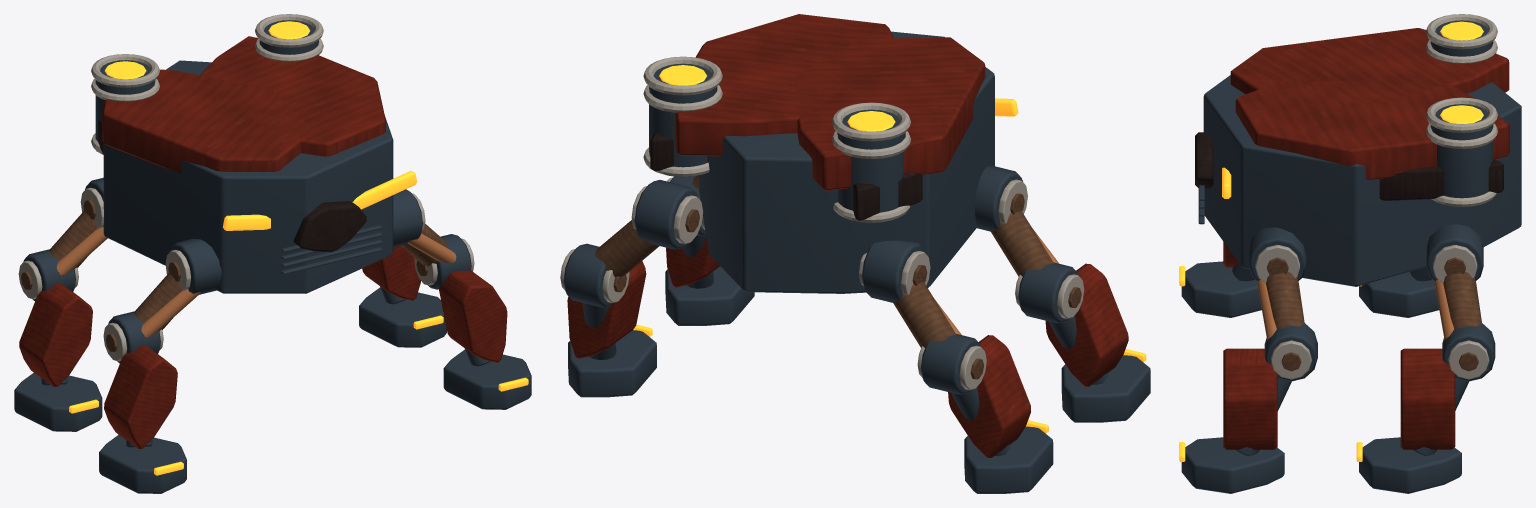
Rendered from slag_crawler.glb.
3 views of the same model, side by side, from view 1: azimuth 30°, elevation 25°; view 2: azimuth 150°, elevation 25°; view 3: azimuth 270°, elevation 25° (orthographic). The views are drawn at different scales.
Parts seen in each view (by area): view 1: Sloped crawler body, Layered beetle carapace, Servo housing.003, Servo housing.008, Swept crawler greave.001, Swept crawler greave, Servo housing, Swept crawler greave.003, Servo housing.006, Reinforced exhaust collar, Crawler eye, Swept cobalt shell (+10 smaller); view 2: Sloped crawler body, Layered beetle carapace, Servo housing, Servo housing.006, Servo housing.003, Reinforced exhaust collar, Swept crawler greave, Swept crawler greave.001, Servo housing.008, Swept crawler greave.002, Hub, Hub.005 (+7 smaller); view 3: Sloped crawler body, Layered beetle carapace, Servo housing.006, Servo housing.008, Swept crawler greave.002, Swept crawler greave.003, Reinforced exhaust collar, Servo housing.003, Swept cobalt shell, Servo housing, Hub.010, Hub.014 (+5 smaller).
Boxes of the visible parts, left/top/right/bottom form: Sloped crawler body: left=95, top=20, right=393, bottom=293; Layered beetle carapace: left=102, top=36, right=385, bottom=173; Servo housing.003: left=99, top=238, right=221, bottom=493; Servo housing.008: left=393, top=189, right=531, bottom=409; Swept crawler greave.001: left=104, top=345, right=177, bottom=448; Swept crawler greave: left=19, top=283, right=92, bottom=386; Servo housing: left=14, top=177, right=103, bottom=431; Swept crawler greave.003: left=439, top=270, right=507, bottom=362; Servo housing.006: left=359, top=286, right=446, bottom=347; Reinforced exhaust collar: left=91, top=14, right=323, bottom=154; Crawler eye: left=104, top=21, right=416, bottom=230; Swept cobalt shell: left=98, top=120, right=366, bottom=252; Sloped crawler body: left=649, top=31, right=994, bottom=293; Layered beetle carapace: left=675, top=14, right=985, bottom=190; Servo housing: left=862, top=240, right=1053, bottom=493; Servo housing.006: left=563, top=180, right=698, bottom=397; Servo housing.003: left=975, top=165, right=1150, bottom=422; Reinforced exhaust collar: left=643, top=56, right=910, bottom=222; Swept crawler greave: left=948, top=335, right=1030, bottom=457; Swept crawler greave.001: left=1045, top=263, right=1128, bottom=386; Servo housing.008: left=665, top=176, right=754, bottom=325; Swept crawler greave.002: left=567, top=261, right=646, bottom=358; Hub: left=892, top=265, right=984, bottom=379; Hub.005: left=990, top=193, right=1081, bottom=307; Sloped crawler body: left=1198, top=20, right=1521, bottom=286; Layered beetle carapace: left=1230, top=28, right=1509, bottom=179; Servo housing.006: left=1359, top=224, right=1495, bottom=493; Servo housing.008: left=1181, top=227, right=1317, bottom=493; Swept crawler greave.002: left=1400, top=348, right=1455, bottom=449; Swept crawler greave.003: left=1223, top=348, right=1277, bottom=449; Reinforced exhaust collar: left=1426, top=14, right=1497, bottom=206; Servo housing.003: left=1181, top=261, right=1261, bottom=317; Swept cobalt shell: left=1195, top=132, right=1503, bottom=200; Servo housing: left=1359, top=267, right=1439, bottom=317; Hub.010: left=1443, top=257, right=1481, bottom=371; Hub.014: left=1266, top=257, right=1304, bottom=371.
Size of the model in its own units: 1.46 by 1.04 by 1.
8 materials, 3 textured.
